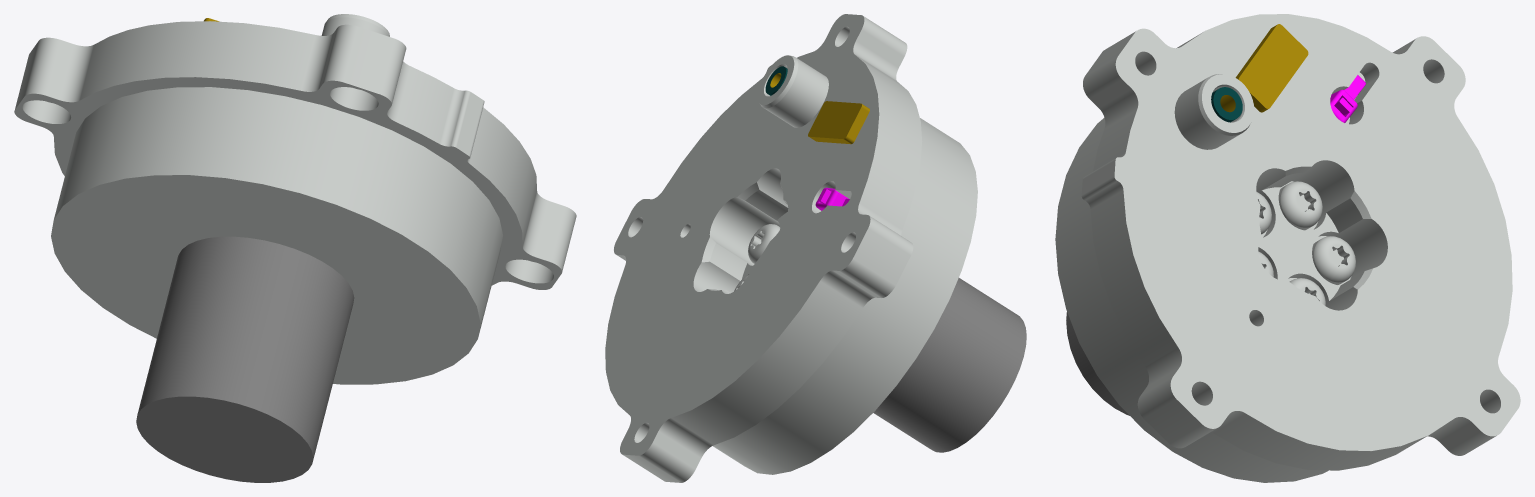
3 renders of one model, left to right at view 1: azimuth 30°, elevation 25°; view 2: azimuth 150°, elevation 25°; view 3: azimuth 270°, elevation 25°, orthographic. The views are drawn at different scales.
Parts seen in each view (by area): view 1: Link7_R3.0-2, Link7_R3.0-1; view 2: Link7_R3.0-2, Link7_R3.0-1, Link7_R3.0, Link7_R3.0-3; view 3: Link7_R3.0-2, Link7_R3.0, Link7_R3.0-1, Link7_R3.0-3, Link7_R3.0-4.
Boxes of the visible parts, box(x1,y1,x2,y2) form: Link7_R3.0-2: box(14, 14, 576, 384); Link7_R3.0-1: box(136, 236, 354, 482); Link7_R3.0-2: box(605, 14, 977, 482); Link7_R3.0-1: box(873, 278, 1026, 452); Link7_R3.0: box(770, 73, 869, 144); Link7_R3.0-3: box(815, 187, 849, 210); Link7_R3.0-2: box(1055, 14, 1520, 482); Link7_R3.0: box(1220, 24, 1308, 112); Link7_R3.0-1: box(1066, 312, 1129, 415); Link7_R3.0-3: box(1330, 75, 1365, 122); Link7_R3.0-4: box(1211, 87, 1242, 122).
Size of the model in its own units: 0.056 by 0.0544 by 0.0533.
